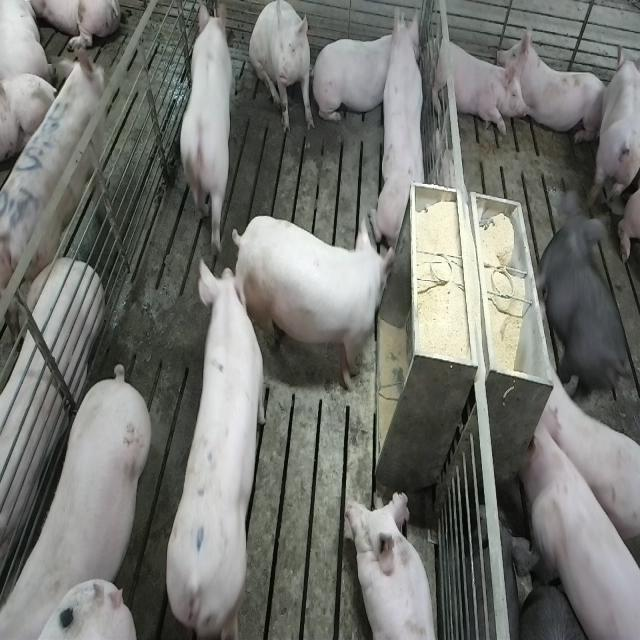Feeding: (227, 210, 394, 393)
Lateral_lying: (0, 260, 102, 586)
Sitting: (375, 11, 429, 251), (248, 1, 314, 138)
Standing: (159, 253, 264, 640), (0, 55, 109, 346), (526, 372, 638, 600), (535, 196, 635, 411), (174, 5, 232, 255)
Sternal_lying: (346, 489, 440, 640), (500, 20, 607, 144), (426, 30, 521, 137), (315, 21, 405, 124)
